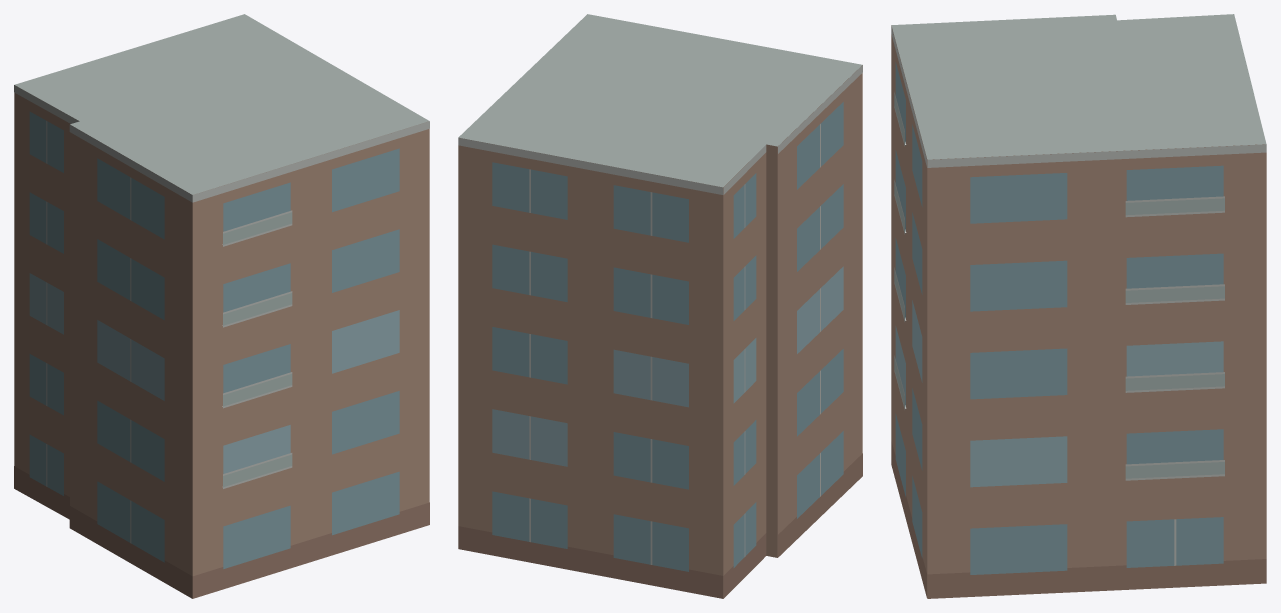
The model's file is survey-upis-32890052.glb.
3 views of the same model, side by side, from view 1: azimuth 30°, elevation 25°; view 2: azimuth 150°, elevation 25°; view 3: azimuth 270°, elevation 25° (orthographic). The views are drawn at different scales.
Parts seen in each view (by area): view 1: survey-upis-32890052.tmp; view 2: survey-upis-32890052.tmp; view 3: survey-upis-32890052.tmp.
Part boxes in pixels (<box>): survey-upis-32890052.tmp: <box>14,14,429,598</box>; survey-upis-32890052.tmp: <box>458,14,862,598</box>; survey-upis-32890052.tmp: <box>891,14,1266,598</box>.
Size of the model in its own units: 9.19 by 12.9 by 10.
